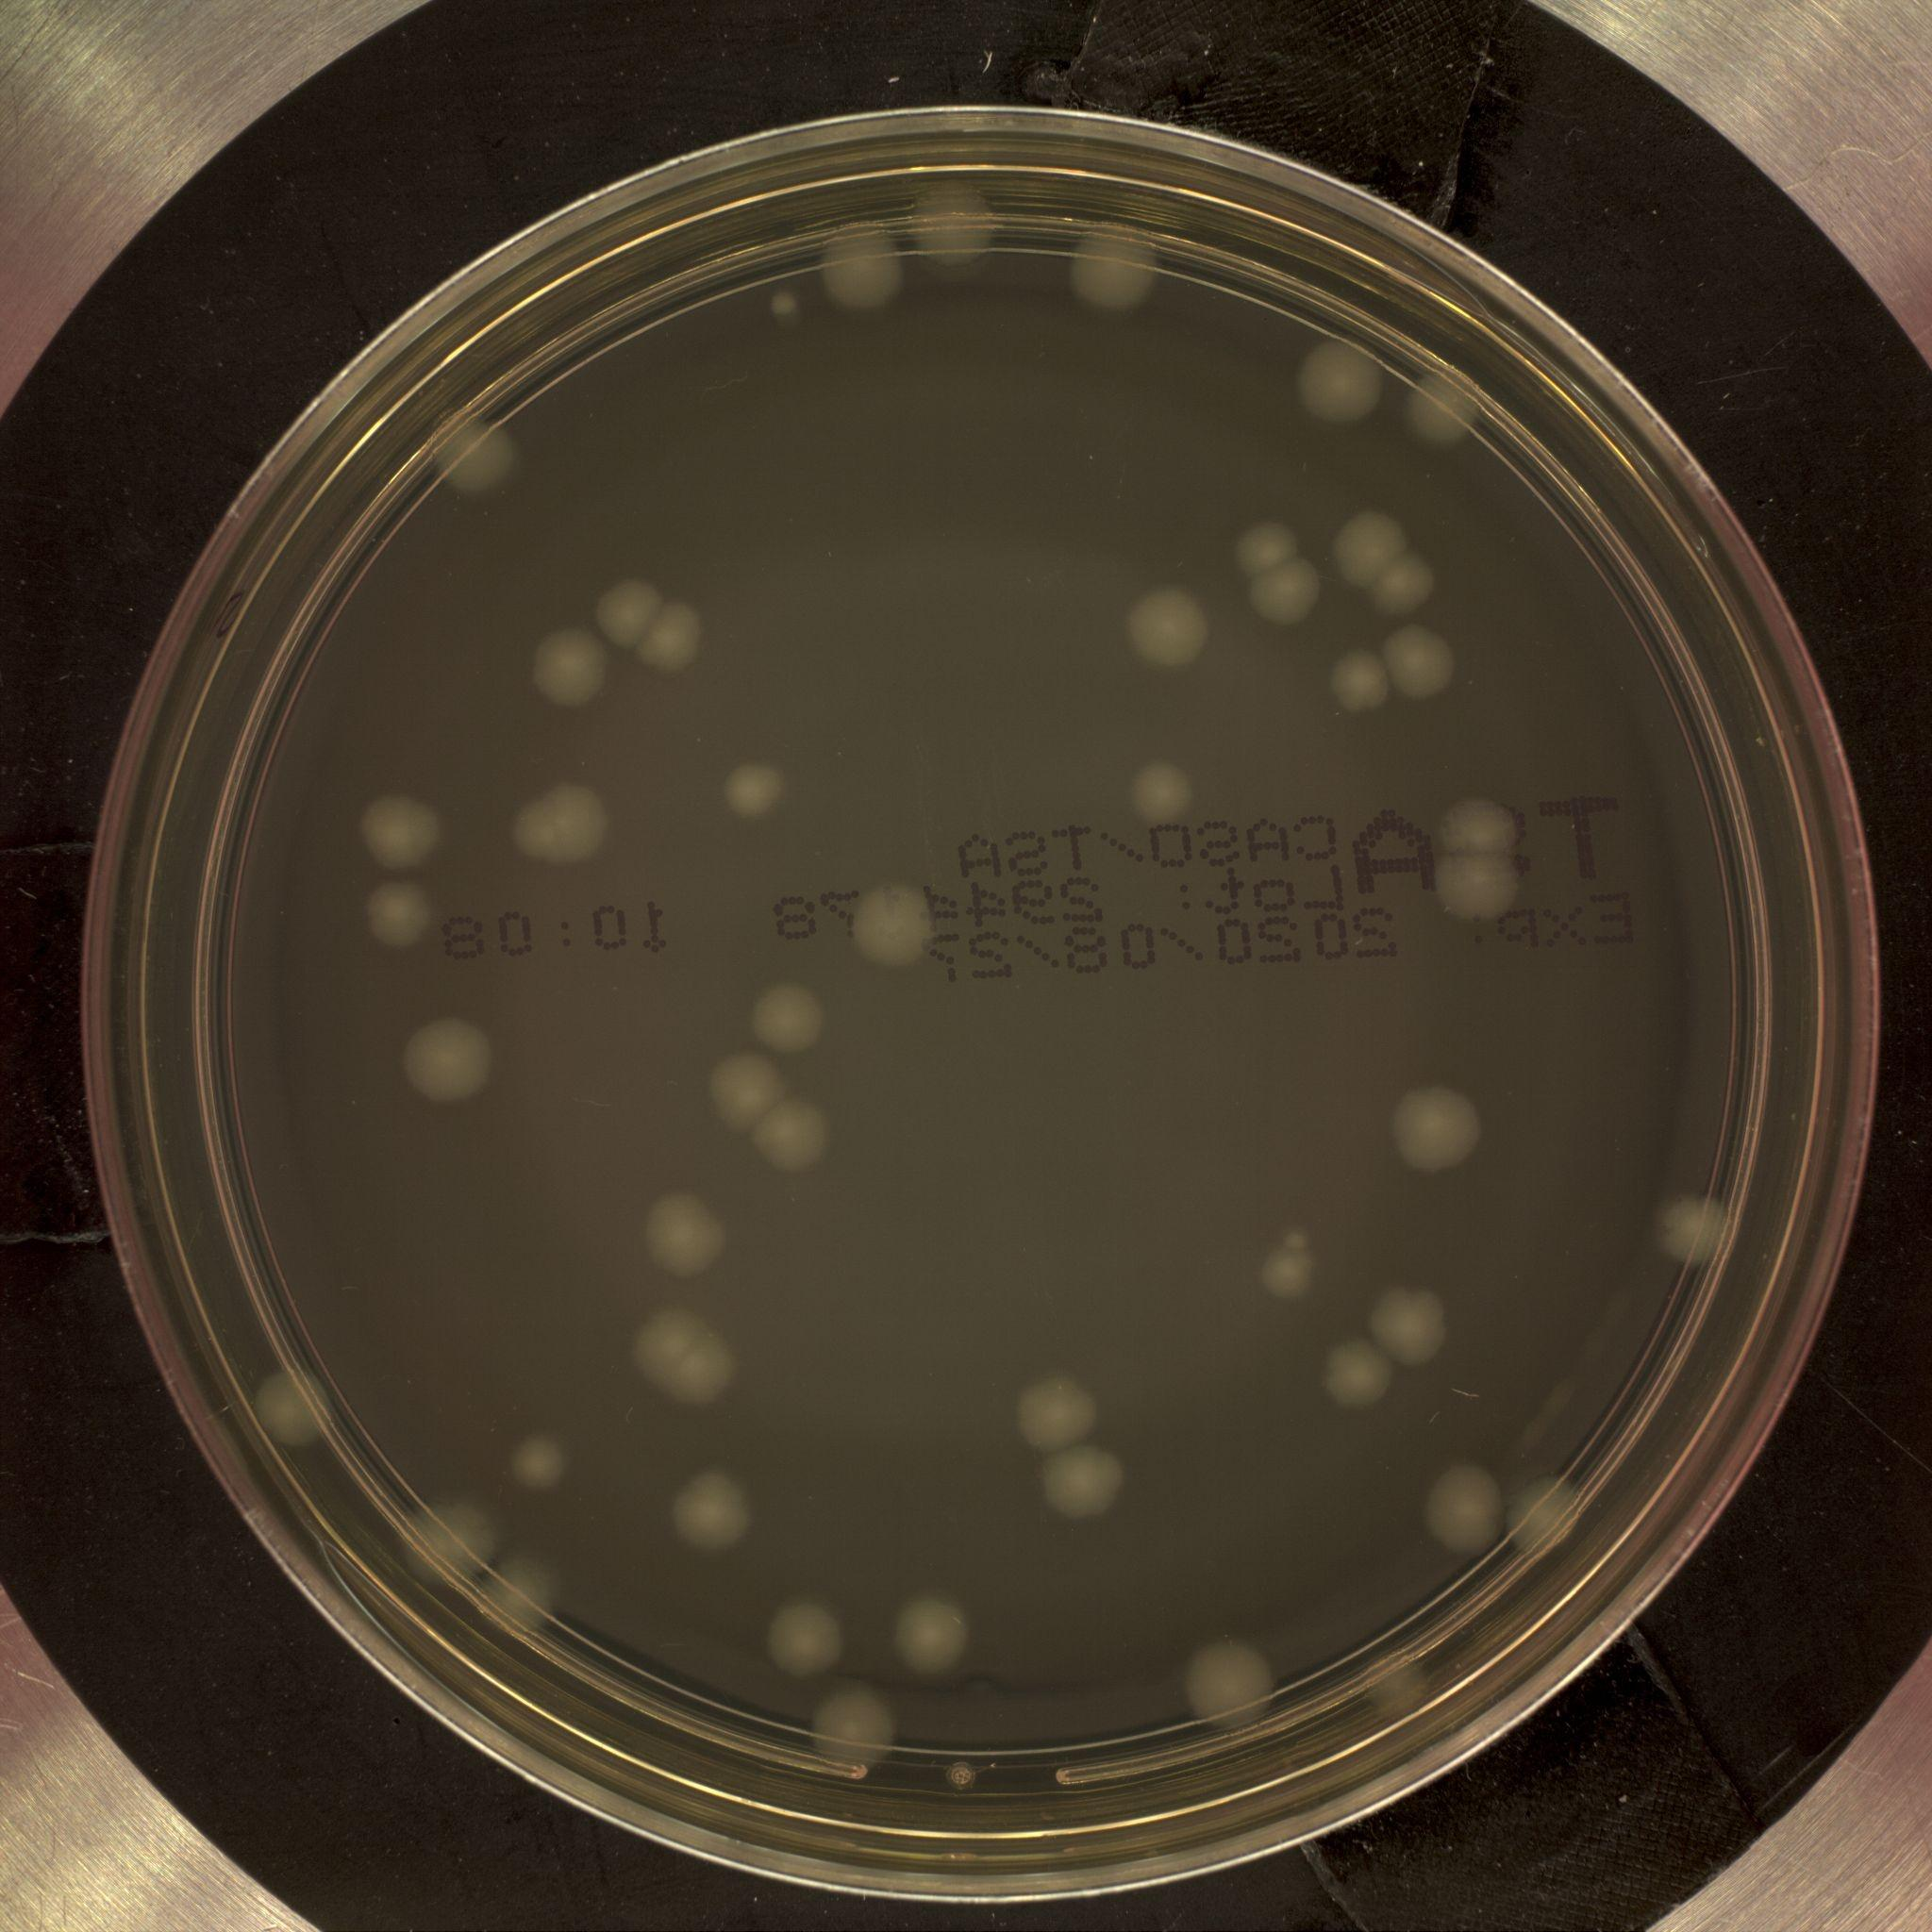e. coli: (626, 1306, 747, 1412), (402, 1016, 495, 1111), (1185, 1635, 1277, 1732), (886, 1592, 985, 1683), (814, 218, 908, 311), (639, 1192, 734, 1281), (805, 1686, 899, 1775), (518, 780, 612, 869), (1070, 223, 1164, 310), (1389, 1085, 1481, 1171), (1125, 580, 1210, 671), (1658, 1189, 1744, 1276), (1037, 1445, 1127, 1529), (478, 1560, 561, 1649), (1426, 1467, 1507, 1557), (849, 885, 934, 970), (255, 1364, 341, 1447), (1300, 343, 1387, 426), (1502, 1476, 1589, 1557), (437, 418, 520, 501), (667, 1472, 754, 1552), (357, 793, 441, 872), (407, 1506, 492, 1583), (911, 188, 1000, 262), (1332, 510, 1410, 593), (630, 603, 717, 678), (1435, 851, 1525, 918), (1414, 375, 1491, 453), (764, 1599, 839, 1681), (755, 1095, 837, 1168), (529, 632, 607, 706), (1373, 1283, 1447, 1359), (1384, 626, 1458, 701), (750, 982, 826, 1053), (1017, 1380, 1093, 1449), (593, 577, 669, 644), (713, 1053, 782, 1125), (1323, 1343, 1394, 1412), (1258, 1224, 1320, 1300), (1125, 757, 1192, 826), (368, 881, 435, 950), (1442, 801, 1516, 863), (1251, 564, 1323, 625), (1376, 548, 1440, 612), (722, 761, 787, 823), (1231, 517, 1295, 575), (511, 1433, 573, 1490), (1332, 658, 1387, 711)
